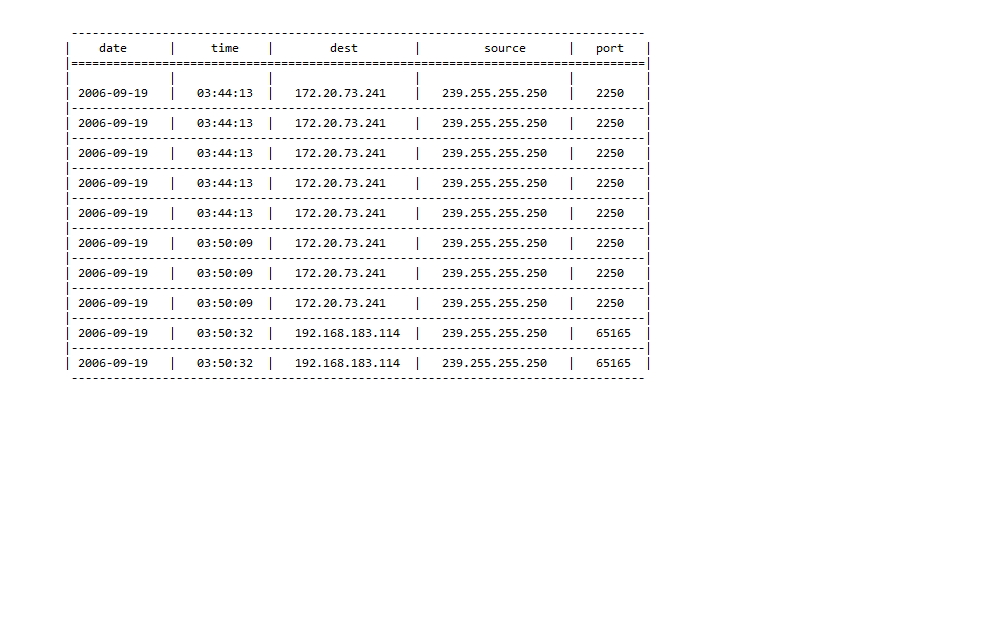table: (63, 29, 652, 391)
